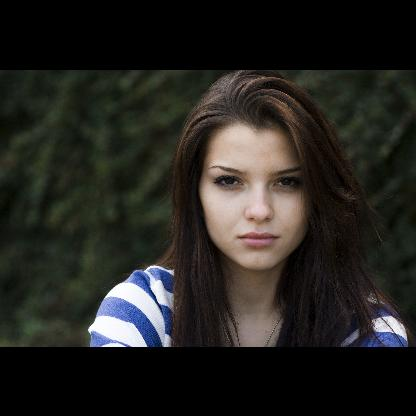Female: (200, 122, 310, 270)
